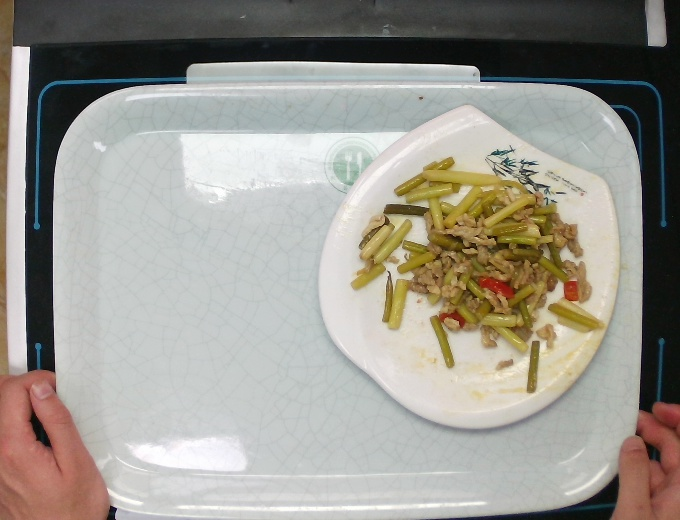JYsf-Mian_Pan: (306, 98, 627, 437)
